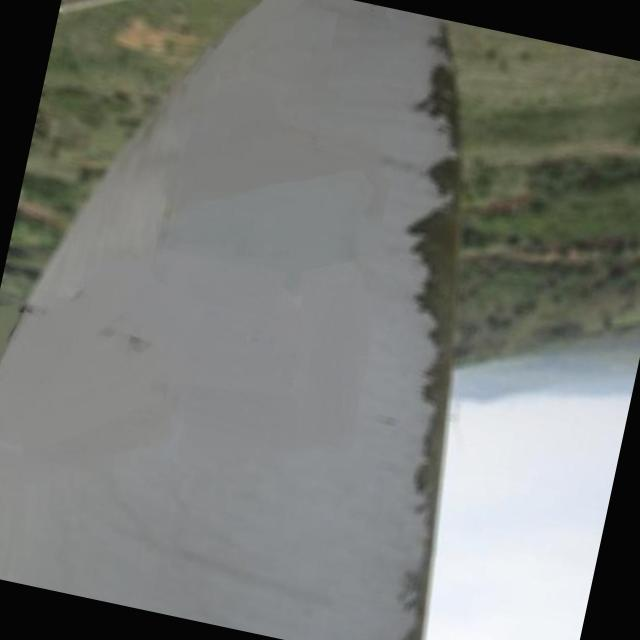corrosion: (360, 319, 498, 640)
surface_peeling: (377, 26, 508, 314)
